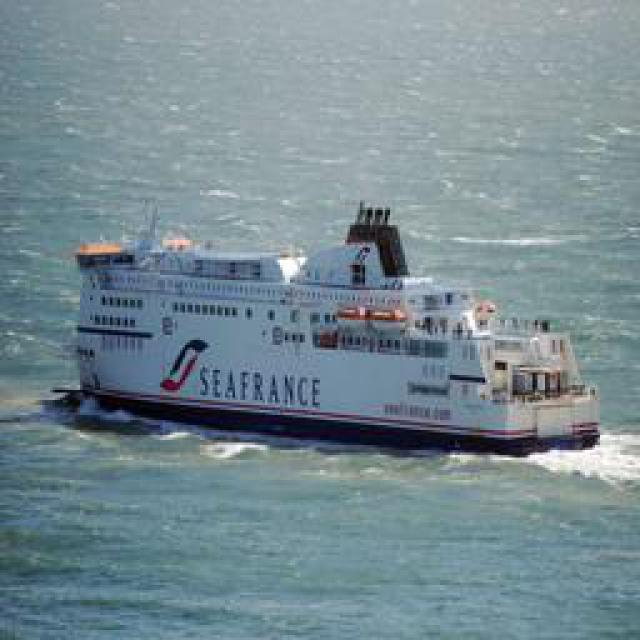Ship: (70, 199, 595, 462)
